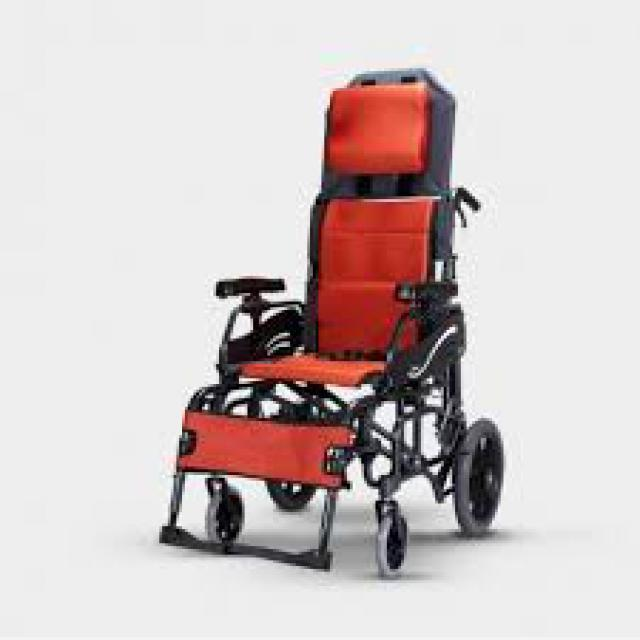wheelchair: (140, 59, 510, 612)
